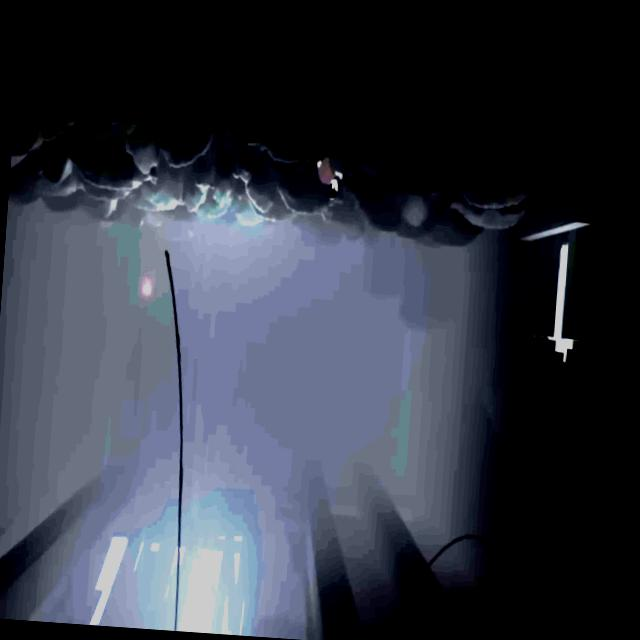boy: (312, 152, 343, 200)
